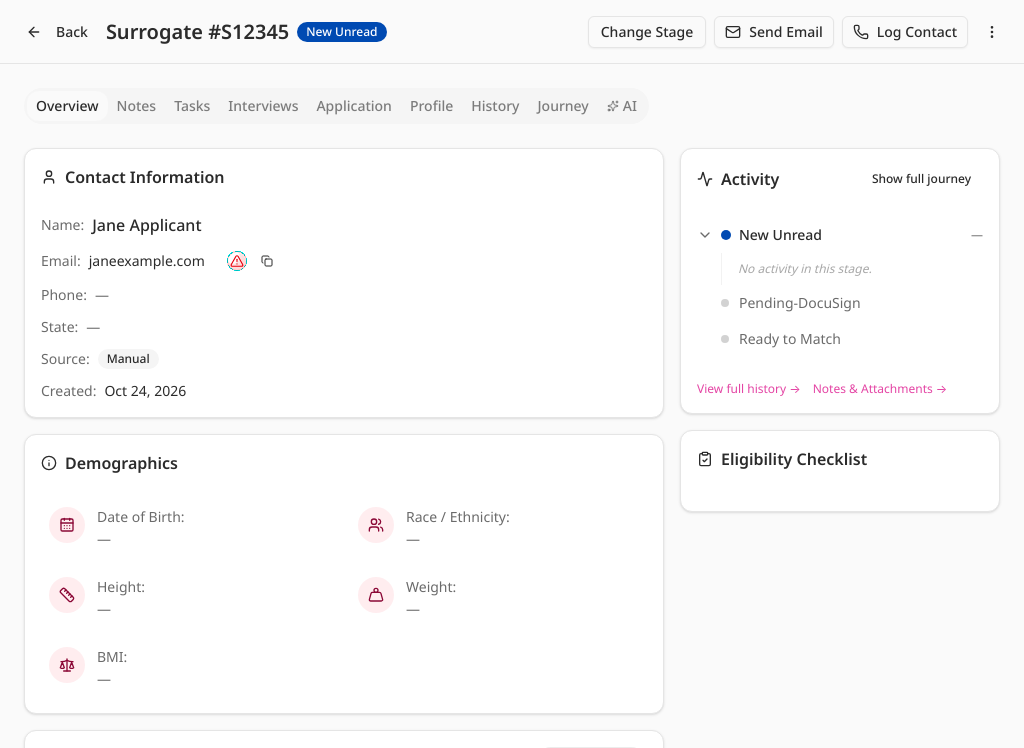
SurrogateDetailPage › shows email warning details in a tooltip on hover or focus
Hover over the button named "Email lead intake warning" at (237, 261), box top-left (227, 251), bottom-right (247, 271)
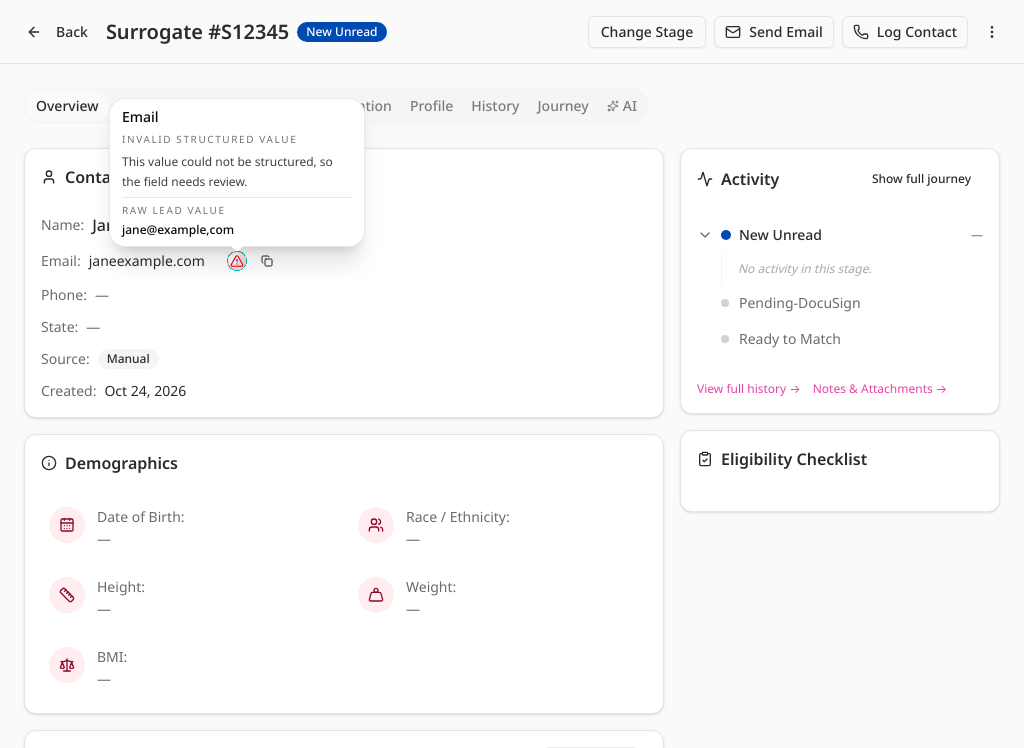
expect the text "Email" is shown: met, box top-left (122, 107), bottom-right (159, 126)
expect the text "This value could not be structured, so the field needs review." is shown: met, box top-left (122, 152), bottom-right (352, 191)
expect the text "jane@example,com" is shown: met, box top-left (122, 221), bottom-right (234, 238)
